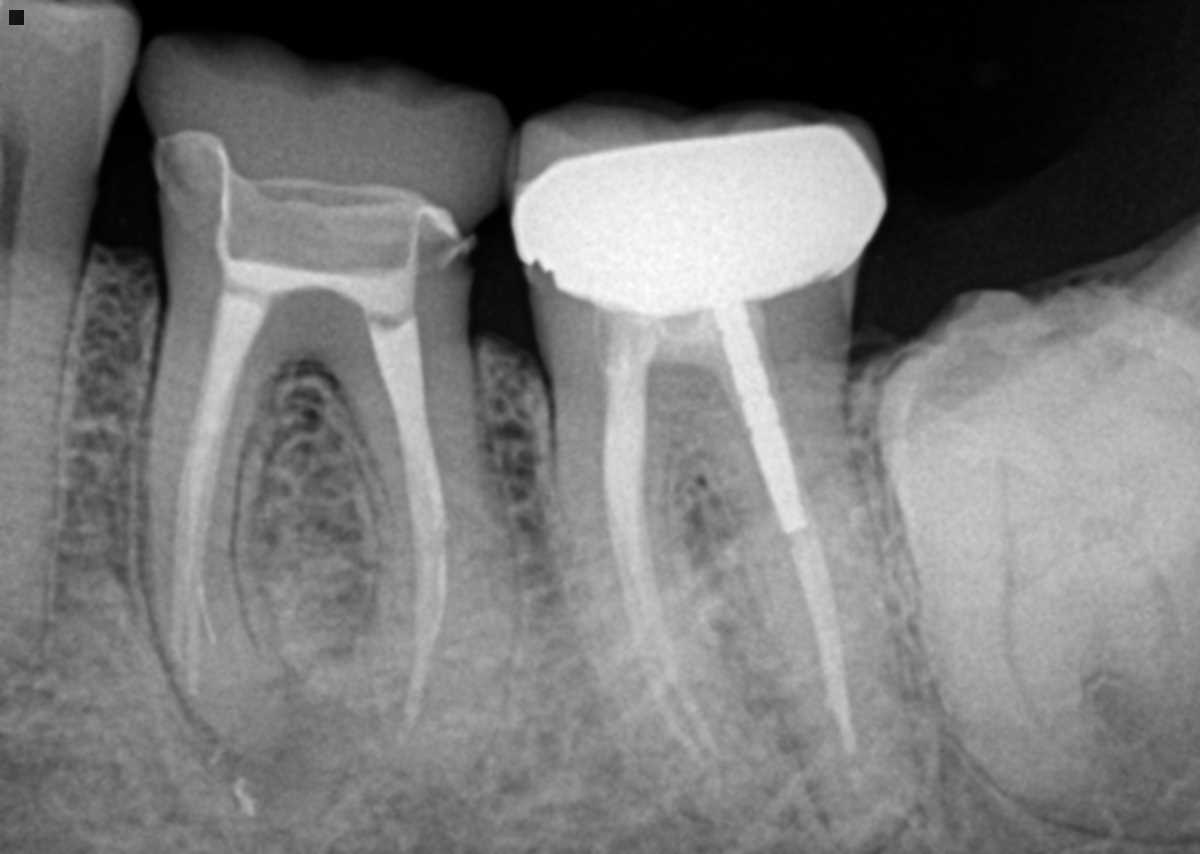Apical Lesion: (216, 676, 376, 835)
Distal Root: (704, 407, 919, 854), (329, 348, 518, 783)
Main Root: (0, 249, 85, 675)
Mesial Root: (543, 374, 778, 819), (133, 287, 294, 768)
Root Canal Filling: (171, 306, 276, 701), (605, 411, 723, 760), (375, 354, 450, 747), (788, 527, 858, 759)
